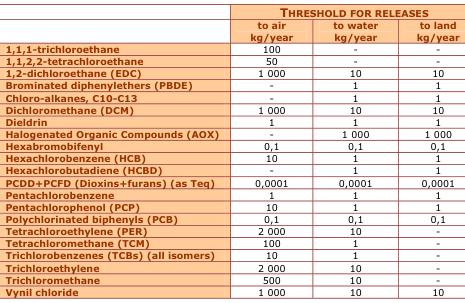table: (4, 3, 458, 296)
table column: (4, 3, 233, 296), (312, 3, 396, 296), (233, 3, 312, 296), (396, 3, 458, 296)
table column header: (4, 3, 458, 42)
table row: (4, 18, 458, 42), (4, 3, 458, 18), (4, 102, 458, 115), (4, 199, 458, 212), (4, 272, 458, 285), (4, 42, 458, 54), (4, 54, 458, 66), (4, 66, 458, 78), (4, 78, 458, 90), (4, 90, 458, 102), (4, 115, 458, 127), (4, 127, 458, 139), (4, 139, 458, 151), (4, 151, 458, 163), (4, 163, 458, 175), (4, 175, 458, 187), (4, 187, 458, 199), (4, 212, 458, 224), (4, 224, 458, 236), (4, 236, 458, 248), (4, 248, 458, 260), (4, 260, 458, 272), (4, 285, 458, 296)
table spanning cell: (233, 3, 458, 18)
